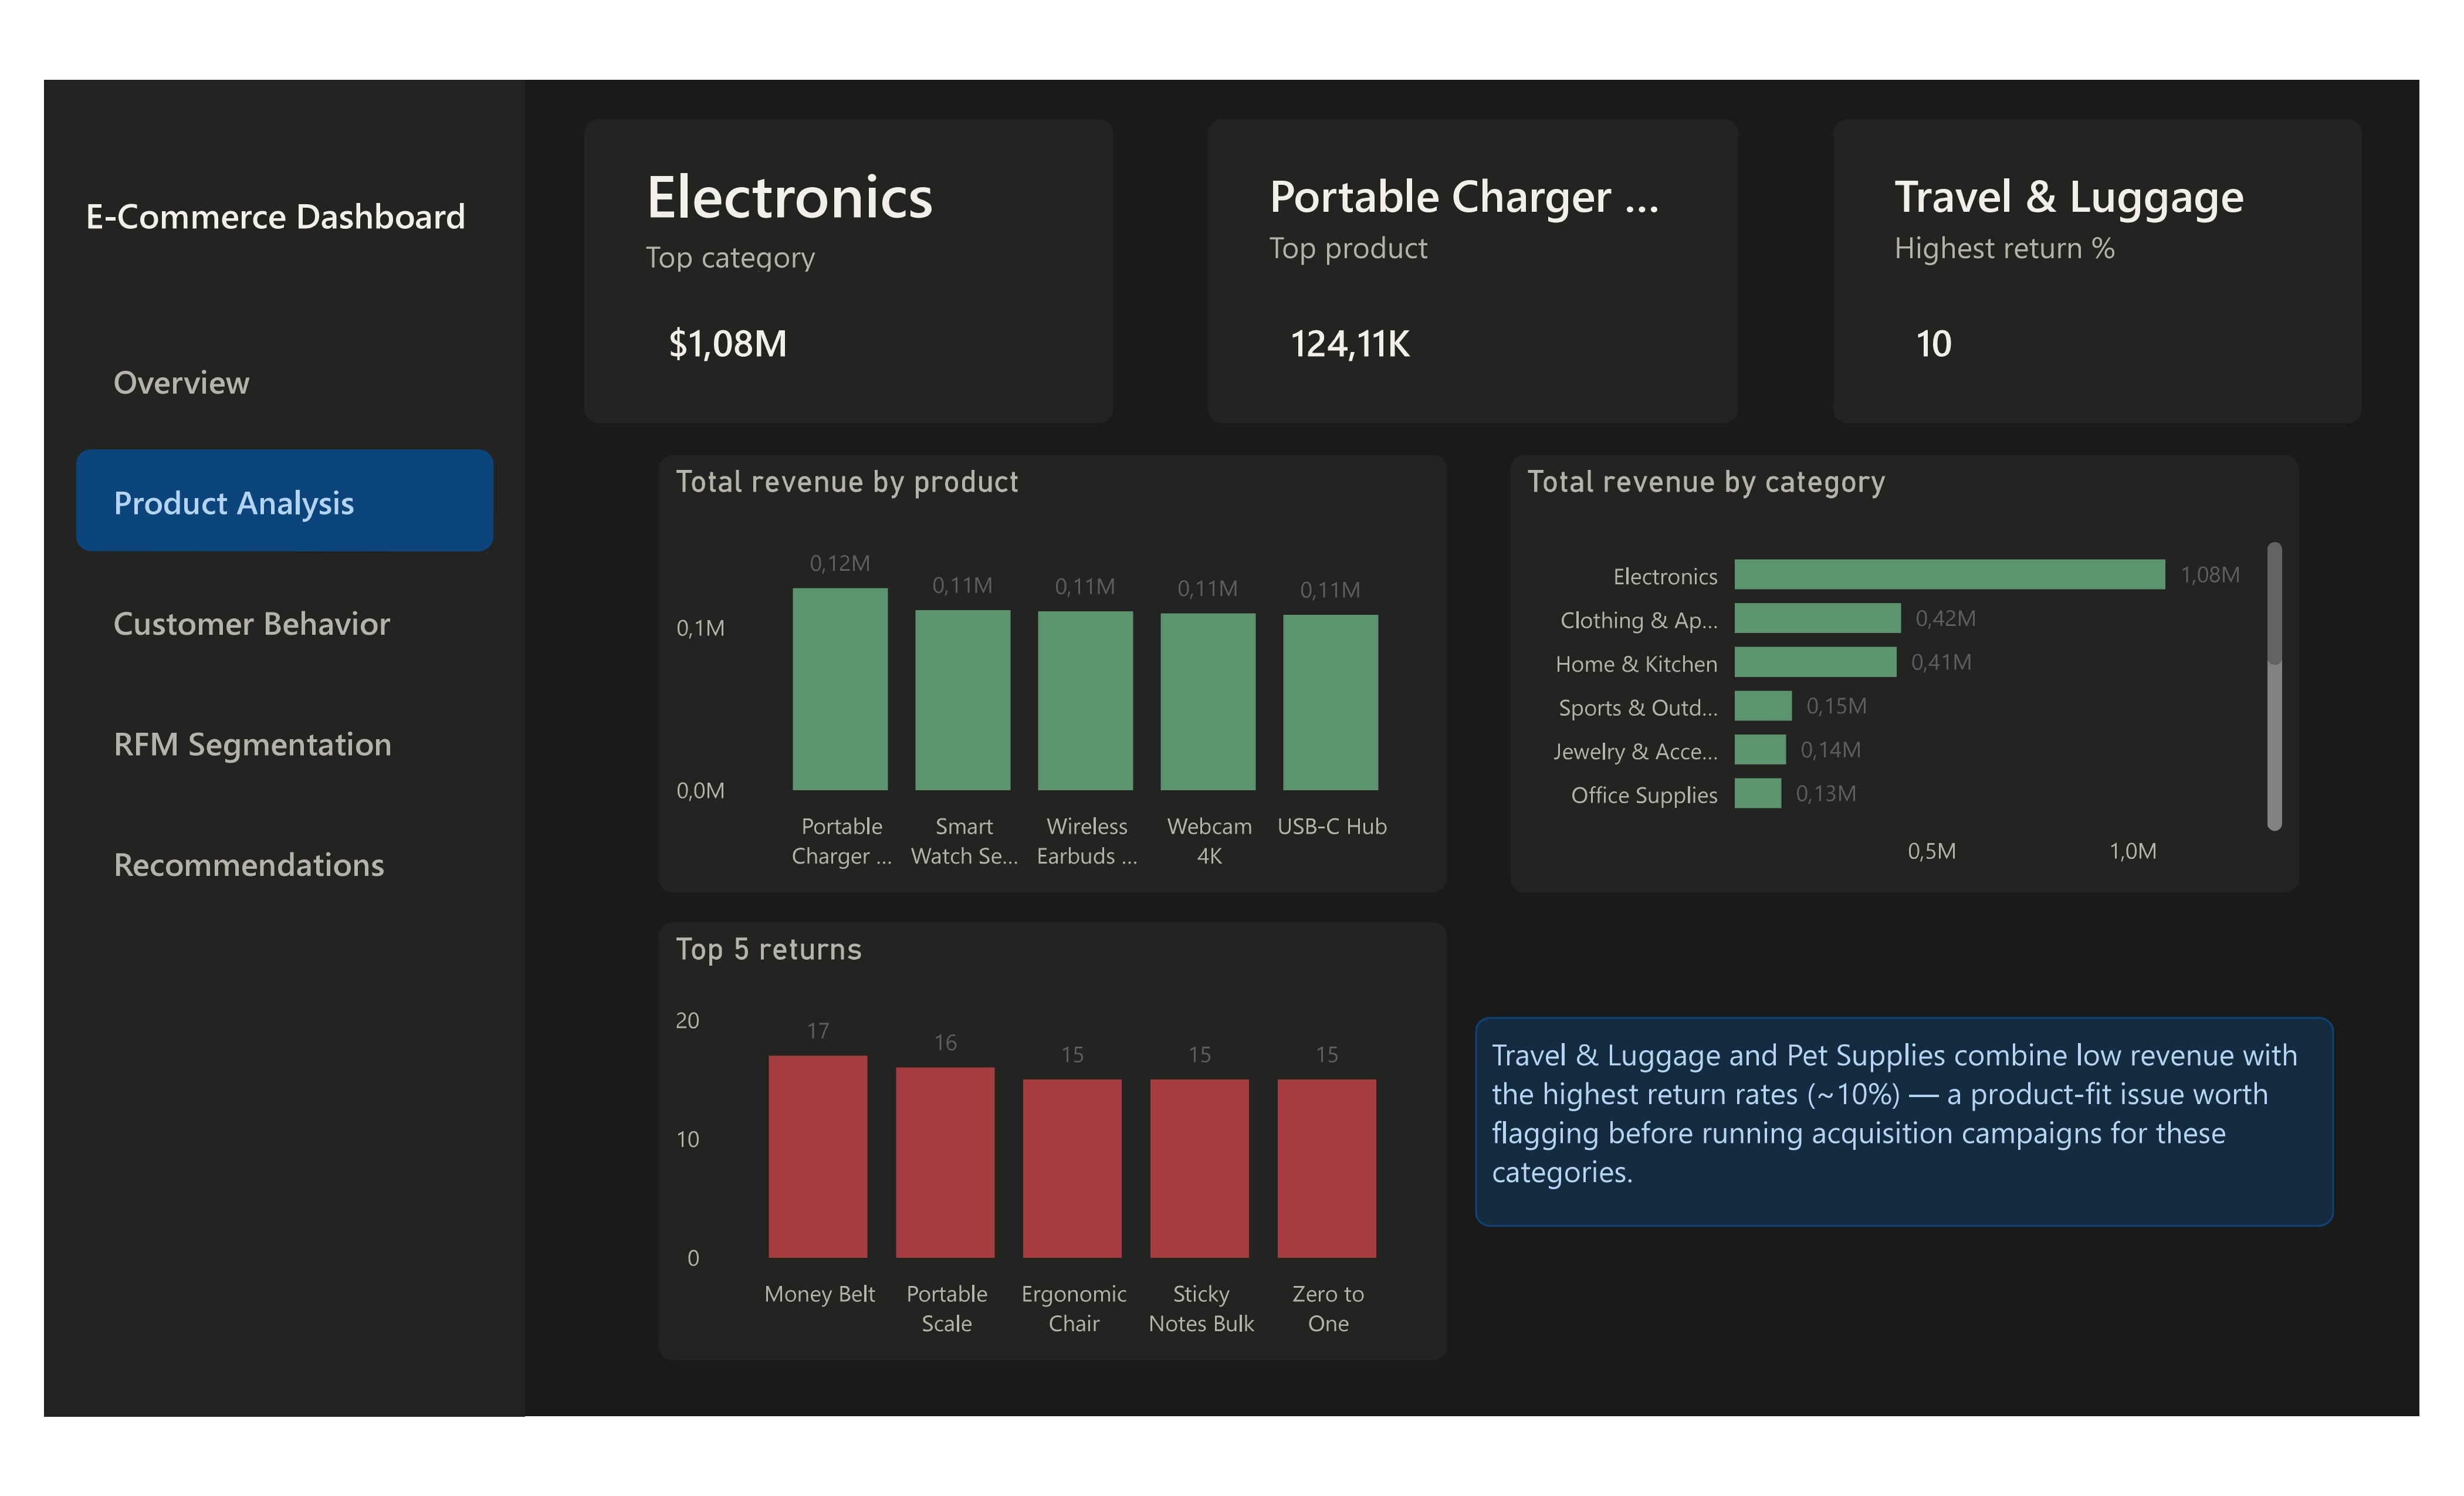

The dashboard page shown, as its layout file describes it:
{"tool":"powerbi","page":{"name":"Product Analysis","canvas":[1280,720],"ordinal":1},"visuals":[{"type":"shape","box":[0,0,259.5,720.5],"z":0},{"type":"pageNavigator","box":[17.2,134.4,225.1,318.8],"z":1000},{"type":"textbox","box":[17.2,54.7,225.1,96.9],"z":2000},{"type":"textbox","box":[771,504.6,463,113.4],"z":3000},{"type":"cardVisual","fields":{"Data":["Min(Query1.category)"]},"box":[291,20.8,285.4,164.4],"z":4000},{"type":"cardVisual","fields":{"Data":["Min(Query1.product_name)"]},"box":[627.4,20.8,285.4,164.4],"z":5000},{"type":"cardVisual","fields":{"Data":["Min(highestreturnratecat.category)"]},"box":[963.8,20.8,285.4,164.4],"z":6000},{"type":"clusteredColumnChart","fields":{"Category":["public product_summary.product_name"],"Y":["Sum(public product_summary.total_revenue_usd)"]},"box":[330.7,201.6,425.2,236.2],"z":8000},{"type":"clusteredColumnChart","title":"Top 5 returns","fields":{"Category":["public product_summary.product_name"],"Y":["Sum(public product_summary.return_rate)"]},"box":[330.7,453.5,425.2,236.2],"z":9000},{"type":"barChart","fields":{"Category":["public product_summary.category"],"Y":["Sum(public product_summary.total_revenue_usd)"]},"box":[789.9,201.6,425.2,236.2],"z":10000}]}

Visuals, with their boxes on the page's 1280x720 design canvas (x1, y1, x2, y2). These are canvas units, not pixel positions in the 2464x1496 screenshot, which may show the page scaled, cropped or inside an application window:
shape: [0, 0, 260, 720]
pageNavigator: [17, 134, 242, 453]
textbox: [17, 55, 242, 152]
textbox: [771, 505, 1234, 618]
cardVisual - Min(Query1.category): [291, 21, 576, 185]
cardVisual - Min(Query1.product_name): [627, 21, 913, 185]
cardVisual - Min(highestreturnratecat.category): [964, 21, 1249, 185]
clusteredColumnChart - public product_summary.product_name x Sum(public product_summary.total_revenue_usd): [331, 202, 756, 438]
"Top 5 returns" clusteredColumnChart: [331, 454, 756, 690]
barChart - public product_summary.category x Sum(public product_summary.total_revenue_usd): [790, 202, 1215, 438]
